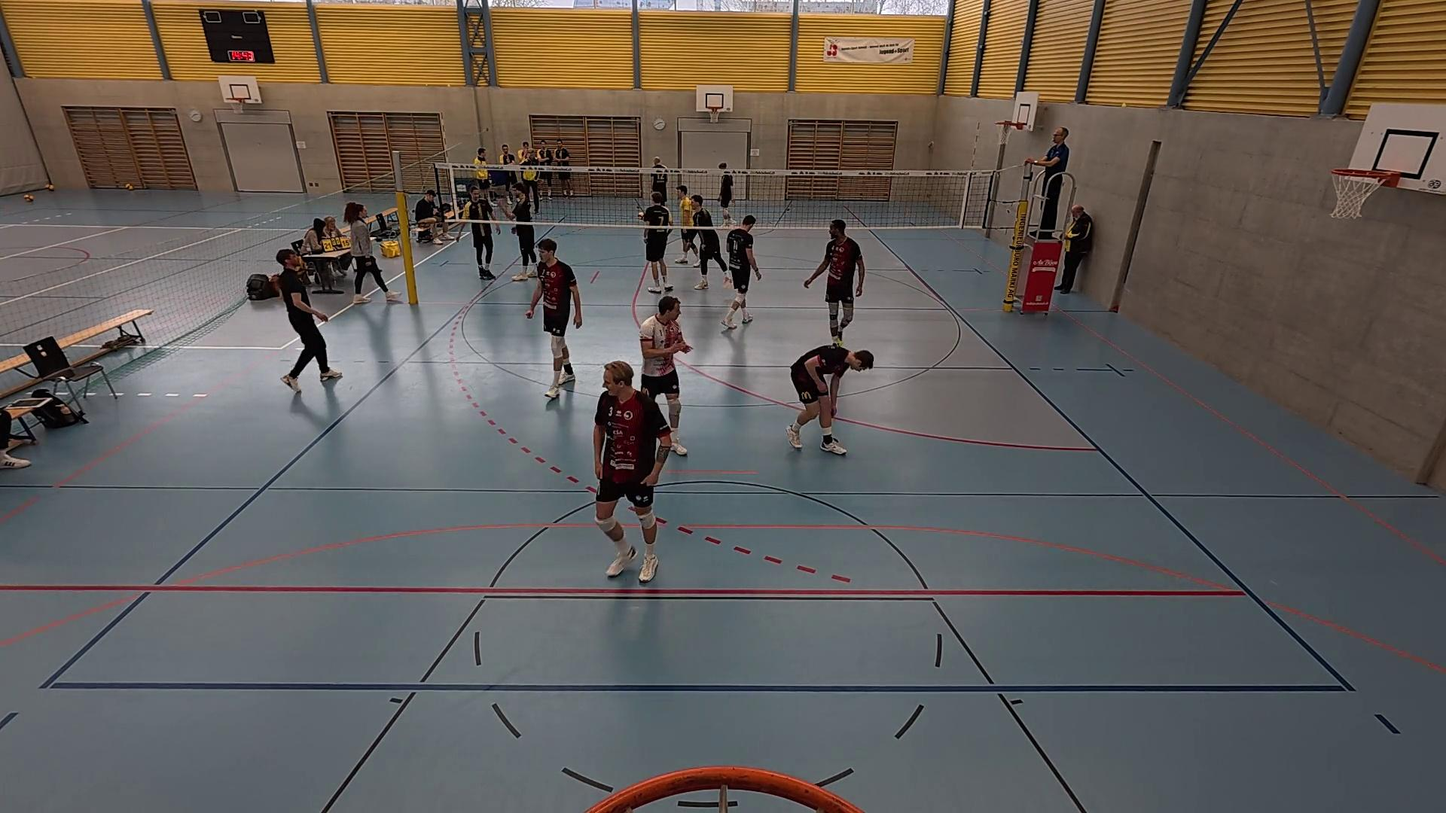Player: (593, 360, 669, 582), (789, 340, 873, 455), (525, 239, 583, 400), (638, 295, 692, 456), (804, 220, 865, 341), (721, 215, 760, 331), (639, 191, 673, 294), (506, 181, 540, 281), (691, 201, 728, 291), (673, 186, 700, 266), (712, 161, 737, 224), (646, 154, 671, 211)
